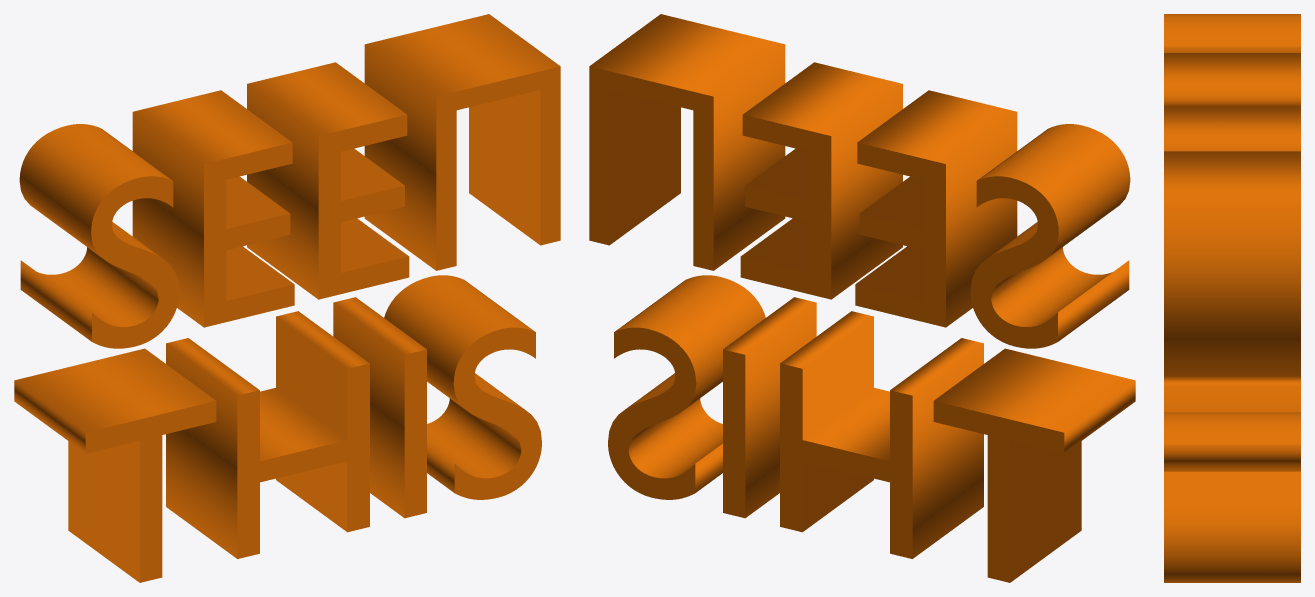
3 views of the same model, side by side, from view 1: azimuth 30°, elevation 25°; view 2: azimuth 150°, elevation 25°; view 3: azimuth 270°, elevation 25° (orthographic). The views are drawn at different scales.
Parts seen in each view (by area): view 1: Text; view 2: Text; view 3: Text.
Boxes of the visible parts, bbox=[...] form: Text: bbox=[14, 14, 560, 582]; Text: bbox=[589, 14, 1135, 582]; Text: bbox=[1164, 14, 1300, 582].
Bounding box in the file's own units: 4.6 × 3.85 × 1.2.
